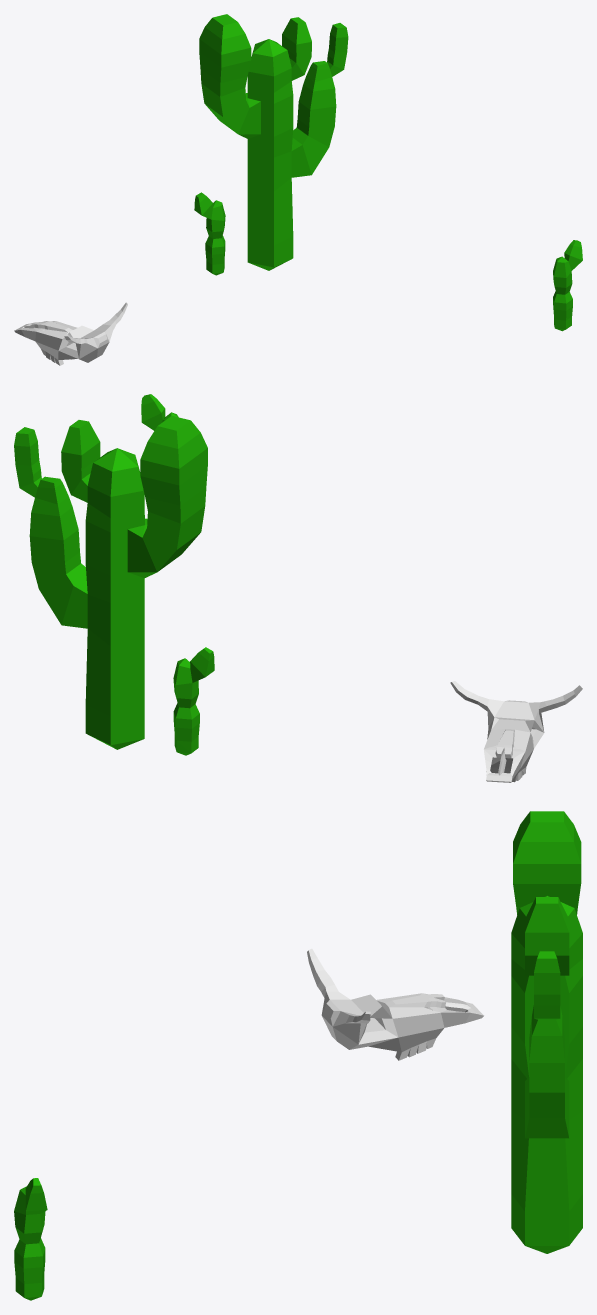
The model's file is cactos.fbx.
3 renders of one model, top to bottom at view 1: azimuth 30°, elevation 25°; view 2: azimuth 150°, elevation 25°; view 3: azimuth 270°, elevation 25°, orthographic. The views are drawn at different scales.
Visible parts, largest first — view 1: Icosphere, Cube, Icosphere.002, Icosphere.001; view 2: Icosphere, Cube, Icosphere.001, Icosphere.002; view 3: Icosphere, Cube, Icosphere.002.
Part boxes in pixels (x1=…): Icosphere: x1=199, y1=14, x2=348, y2=270; Cube: x1=14, y1=302, x2=127, y2=365; Icosphere.002: x1=553, y1=240, x2=582, y2=331; Icosphere.001: x1=194, y1=192, x2=225, y2=275; Icosphere: x1=14, y1=416, x2=207, y2=749; Cube: x1=450, y1=681, x2=582, y2=782; Icosphere.001: x1=173, y1=647, x2=214, y2=755; Icosphere.002: x1=141, y1=394, x2=178, y2=430; Icosphere: x1=511, y1=811, x2=582, y2=1253; Cube: x1=307, y1=948, x2=483, y2=1060; Icosphere.002: x1=14, y1=1178, x2=47, y2=1300.
Size of the model in its own units: 969 by 568 by 724.
